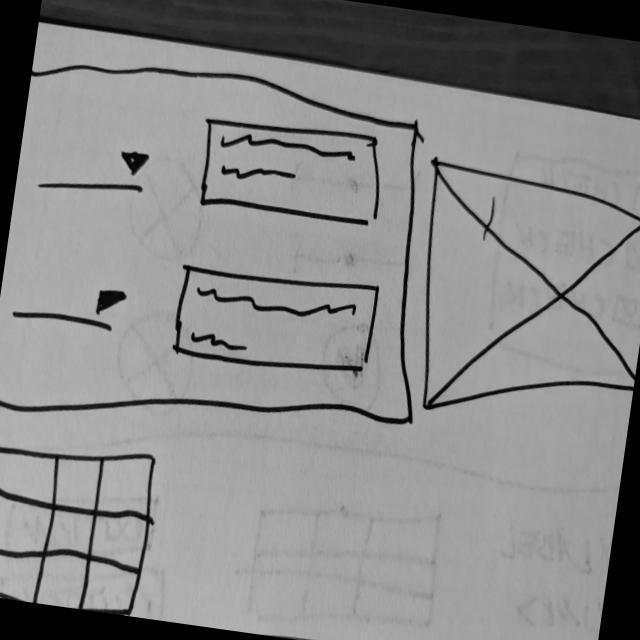container: (1, 41, 462, 472)
select: (169, 255, 383, 386), (35, 134, 157, 205), (10, 272, 134, 338)
